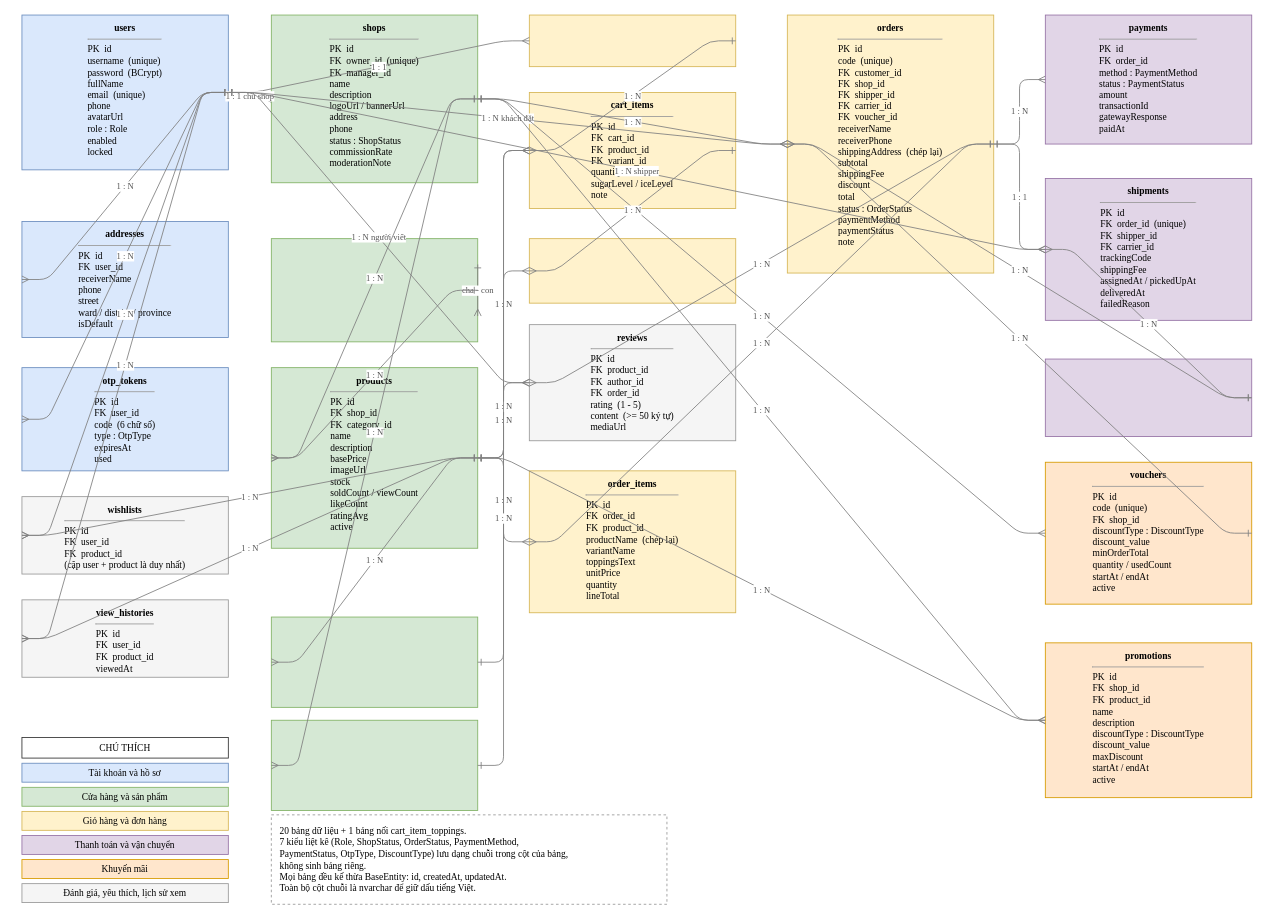
The diagram is 1275 pixels wide and 919 high, and some of its shapes have lost their labels. Each missing label, with the centre of its shape:
"carriers PK id name shippingFee active" belongs at [1148,397].
"cart_item_toppings FK cart_item_id FK topping_id (bảng nối nhiều - nhiều)" belongs at [632,270].
"carts PK id FK user_id (unique)" belongs at [632,40].
"categories PK id name slug (unique) FK parent_id imageUrl active" belongs at [374,290].
"product_variants PK id FK product_id name (size) extraPrice active" belongs at [374,661].
"toppings PK id FK shop_id name price active" belongs at [374,765].
